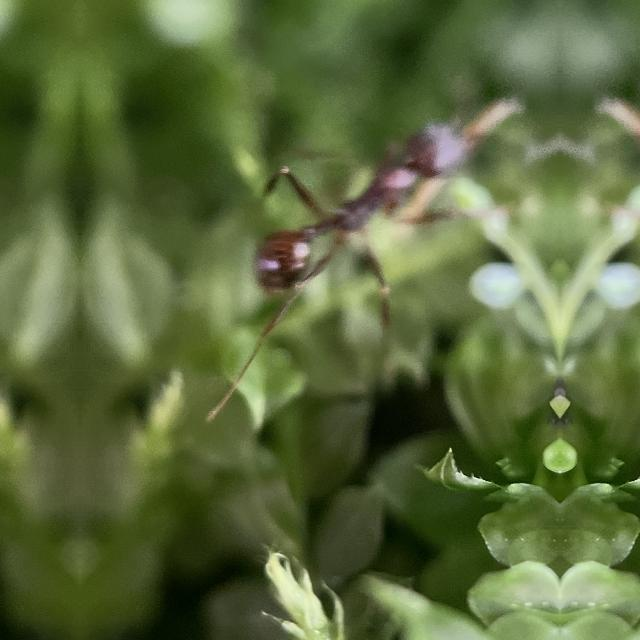Apheanogaster: (223, 82, 492, 352)
